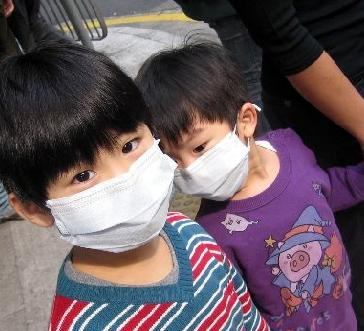face_mask: (55, 99, 173, 254), (160, 103, 247, 197)
